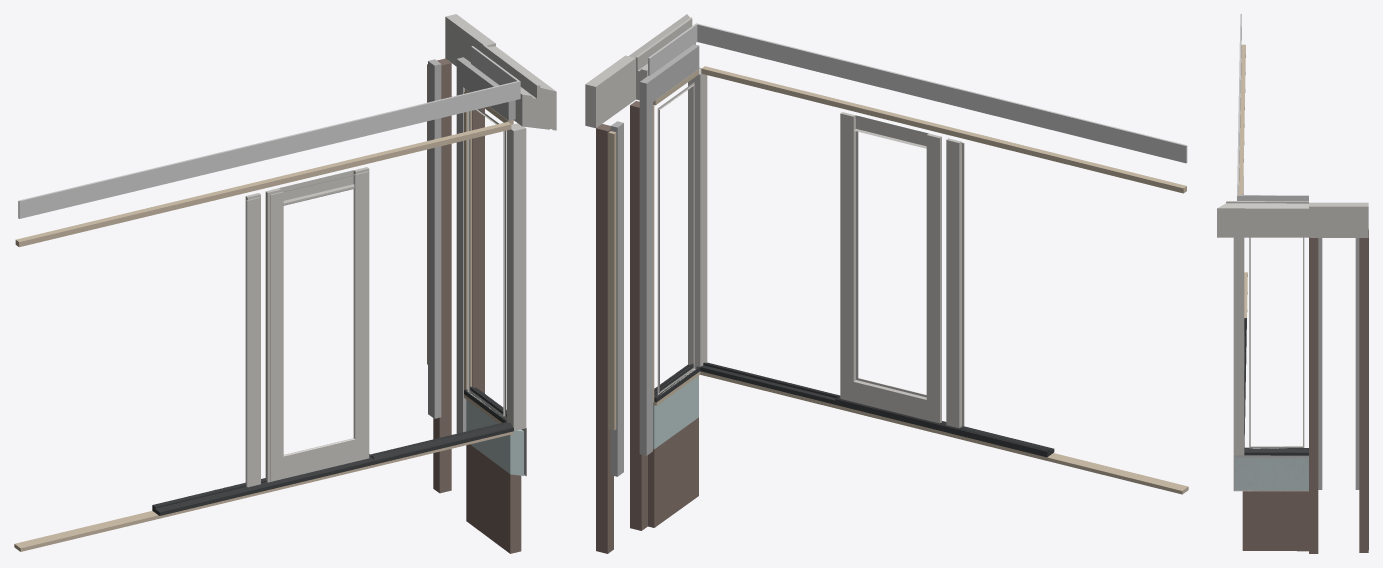
The picture shows the model from 3 angles, left to right: view 1: azimuth 30°, elevation 25°; view 2: azimuth 150°, elevation 25°; view 3: azimuth 270°, elevation 25°; orthographic projection. The views are drawn at different scales.
Size of the model in its own units: 4.81 by 4.17 by 1.62.
